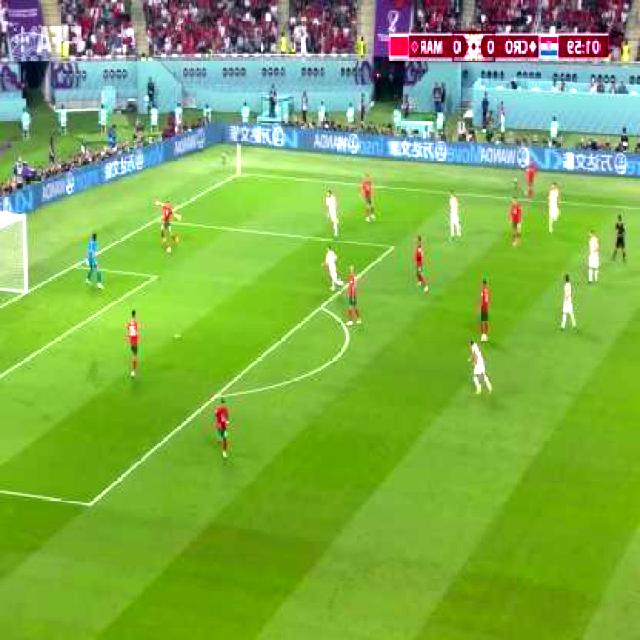bigarea_bottom_inner: (82, 489, 100, 520)
bigarea_top_inner: (388, 238, 398, 256)
bigarea_top_outter: (152, 214, 162, 228)
bottom_arc_area_intersection: (209, 384, 226, 408)
corner: (234, 169, 243, 177)
smallarea_top_inner: (151, 268, 160, 288)
smallarea_top_outter: (69, 258, 80, 276)
top_arc_area_intersection: (314, 297, 328, 318)
